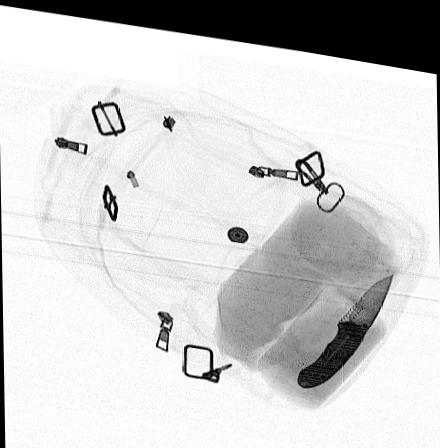Knife: (296, 256, 394, 377)
